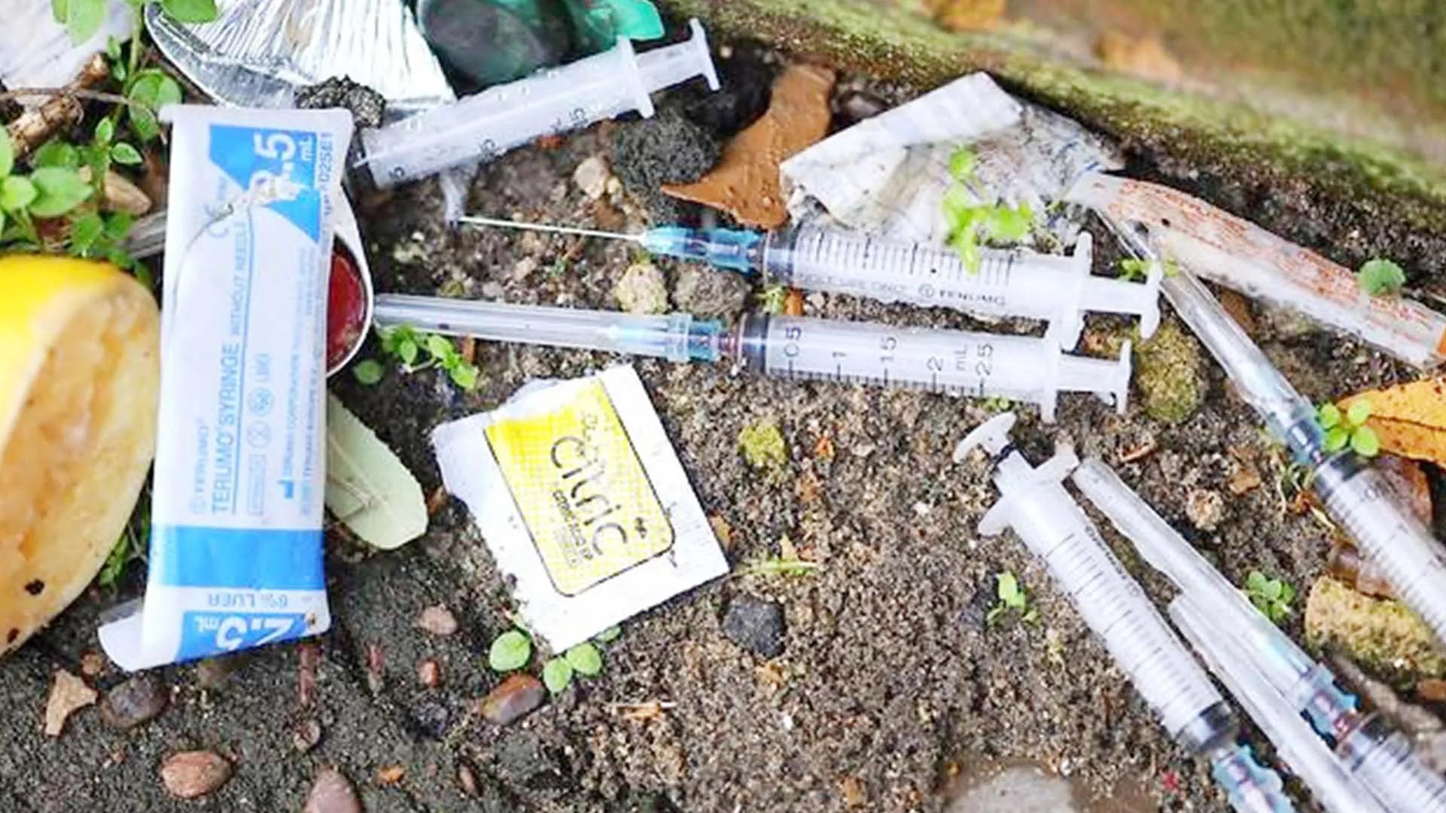Syringe: (954, 413, 1292, 812), (1072, 459, 1445, 812), (1162, 269, 1445, 640), (374, 294, 1130, 421), (461, 217, 1162, 348), (1066, 173, 1445, 367), (355, 20, 718, 186), (1169, 595, 1413, 812)
